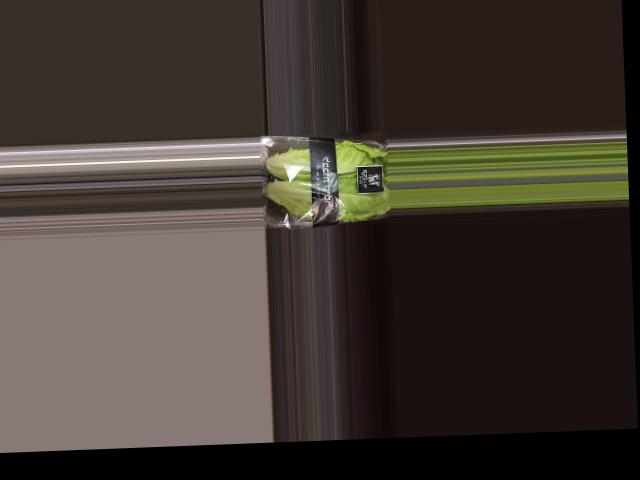lettuce: (259, 131, 389, 223)
